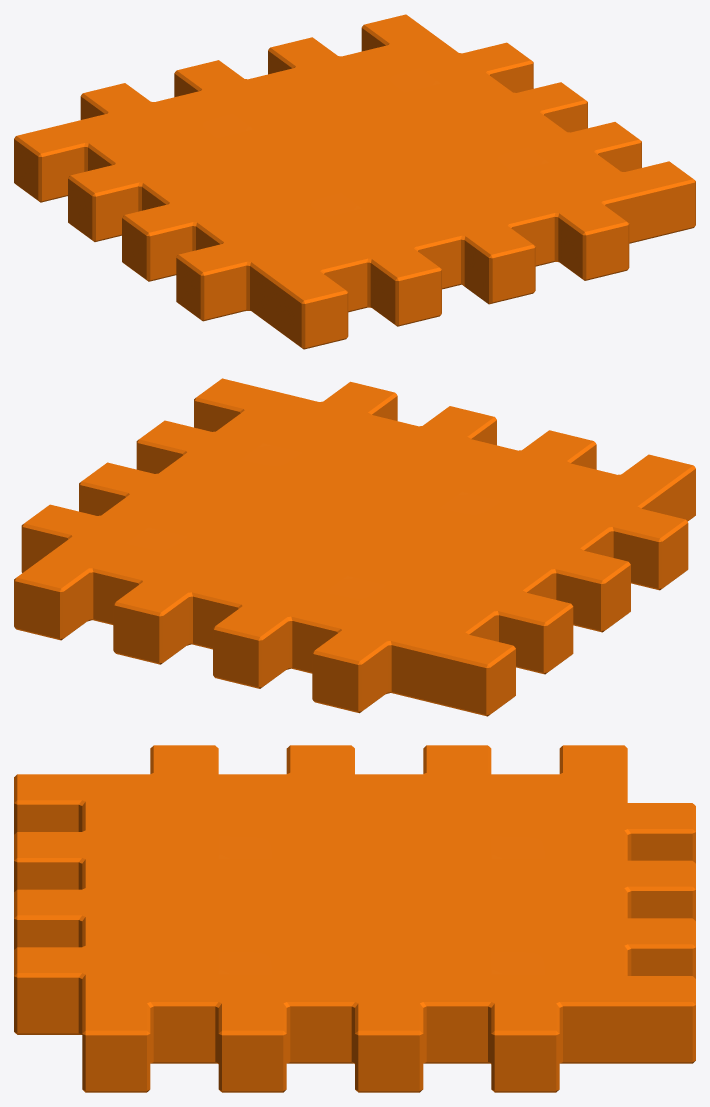
File: YellowSquare.fbx
3 renders of one model, top to bottom at view 1: azimuth 30°, elevation 25°; view 2: azimuth 150°, elevation 25°; view 3: azimuth 270°, elevation 25°, orthographic. The views are drawn at different scales.
Visible parts, largest first — view 1: BlueSquare; view 2: BlueSquare; view 3: BlueSquare.
Boxes of the visible parts, left/top/right/bottom form: BlueSquare: left=14, top=14, right=695, bottom=349; BlueSquare: left=14, top=378, right=695, bottom=716; BlueSquare: left=14, top=745, right=695, bottom=1092.
Bounding box in the file's own units: 5 × 0.4999 × 5.
